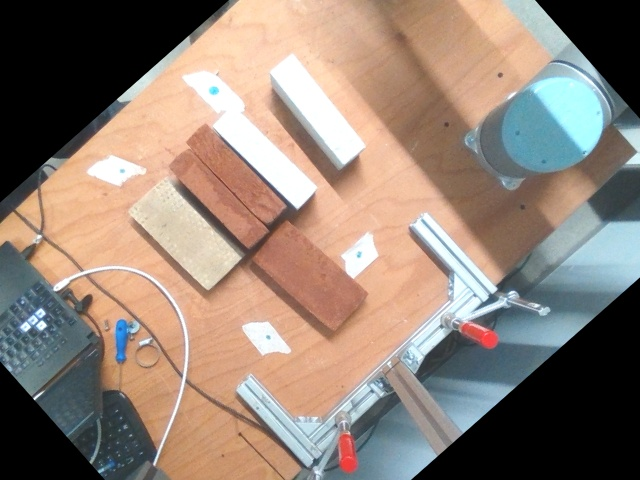brick: (254, 220, 367, 330), (129, 178, 240, 289)
brick-side: (213, 107, 316, 208), (269, 55, 364, 162), (165, 149, 265, 248), (183, 125, 283, 224)
